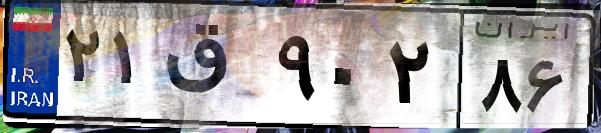0: (330, 28, 385, 110)
1: (110, 28, 158, 98)
2: (385, 28, 445, 110), (57, 26, 110, 100)
6: (525, 38, 570, 115)
8: (475, 38, 525, 113)
9: (270, 28, 330, 110)
ق: (158, 20, 270, 120)
